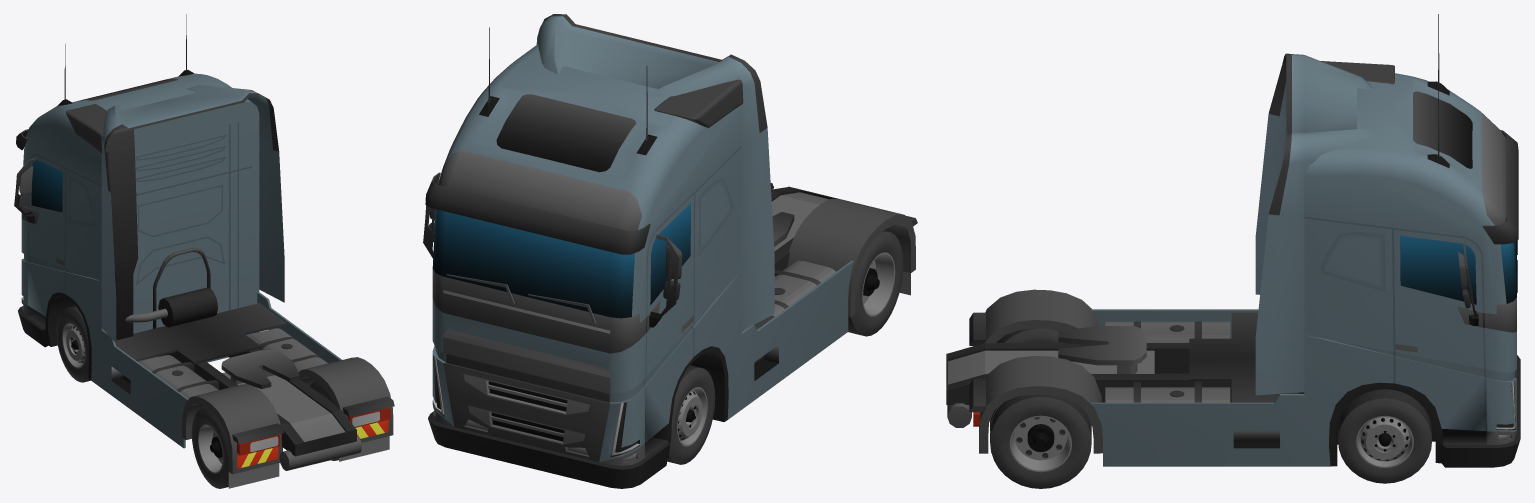
The model's file is volvo_fh16_truck_lowpoly.glb.
3 renders of one model, left to right at view 1: azimuth 30°, elevation 25°; view 2: azimuth 150°, elevation 25°; view 3: azimuth 270°, elevation 25°, orthographic. The views are drawn at different scales.
Parts seen in each view (by area): view 1: Cube.012_6, Cube.011_4, Plane.002_1, Circle.010_8, RearTire.002_0, Cube.007_2, Tire.004_9, Cube.008_3; view 2: Cube.012_6, Cube.009_11, RearTire.002_0, Tire.004_9, Cube.011_4, Plane.002_1, Cube.008_3, Circle.010_8, Cube.007_2; view 3: Cube.012_6, Cube.011_4, RearTire.002_0, Tire.004_9, Cube.007_2, Circle.010_8, Cube.009_11, Plane.002_1, Cube.008_3.
Boxes of the visible parts, x1,y1,x2,y2 form: Cube.012_6: (18, 14, 393, 488); Cube.011_4: (115, 303, 394, 468); Plane.002_1: (66, 104, 138, 339); Circle.010_8: (153, 247, 361, 470); RearTire.002_0: (191, 380, 338, 488); Cube.007_2: (221, 350, 299, 389); Tire.004_9: (56, 306, 90, 382); Cube.008_3: (14, 158, 36, 223); Cube.012_6: (428, 14, 915, 488); Cube.009_11: (425, 172, 650, 254); RearTire.002_0: (848, 231, 903, 336); Tire.004_9: (667, 365, 715, 464); Cube.011_4: (741, 183, 917, 331); Plane.002_1: (654, 79, 743, 127); Cube.008_3: (423, 205, 682, 327); Circle.010_8: (771, 192, 828, 251); Cube.007_2: (772, 212, 794, 246); Cube.012_6: (979, 14, 1520, 467); Cube.011_4: (946, 312, 1304, 426); RearTire.002_0: (990, 328, 1091, 488); Tire.004_9: (1338, 389, 1431, 483); Cube.007_2: (1058, 326, 1146, 373); Circle.010_8: (947, 350, 1154, 427); Cube.009_11: (1482, 130, 1518, 244); Plane.002_1: (1321, 61, 1394, 84); Cube.008_3: (1458, 242, 1478, 325).
Size of the model in its own units: 3.18 by 5.01 by 6.62.
Materials: 4 (4 with a texture image).
